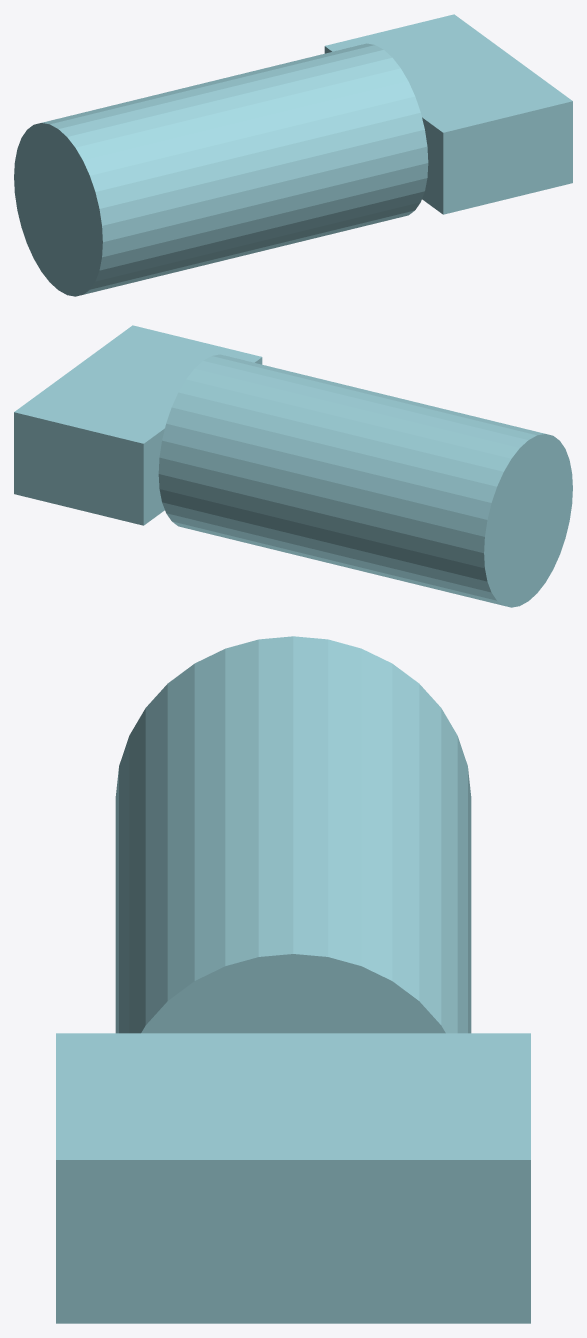
The model's file is cylinder_brush_v9003.obj.
The picture shows the model from 3 angles, top to bottom: view 1: azimuth 30°, elevation 25°; view 2: azimuth 150°, elevation 25°; view 3: azimuth 270°, elevation 25°; orthographic projection. The views are drawn at different scales.
Size of the model in its own units: 0.1764 by 0.0597 by 0.0797.
1 material, 1 textured.
